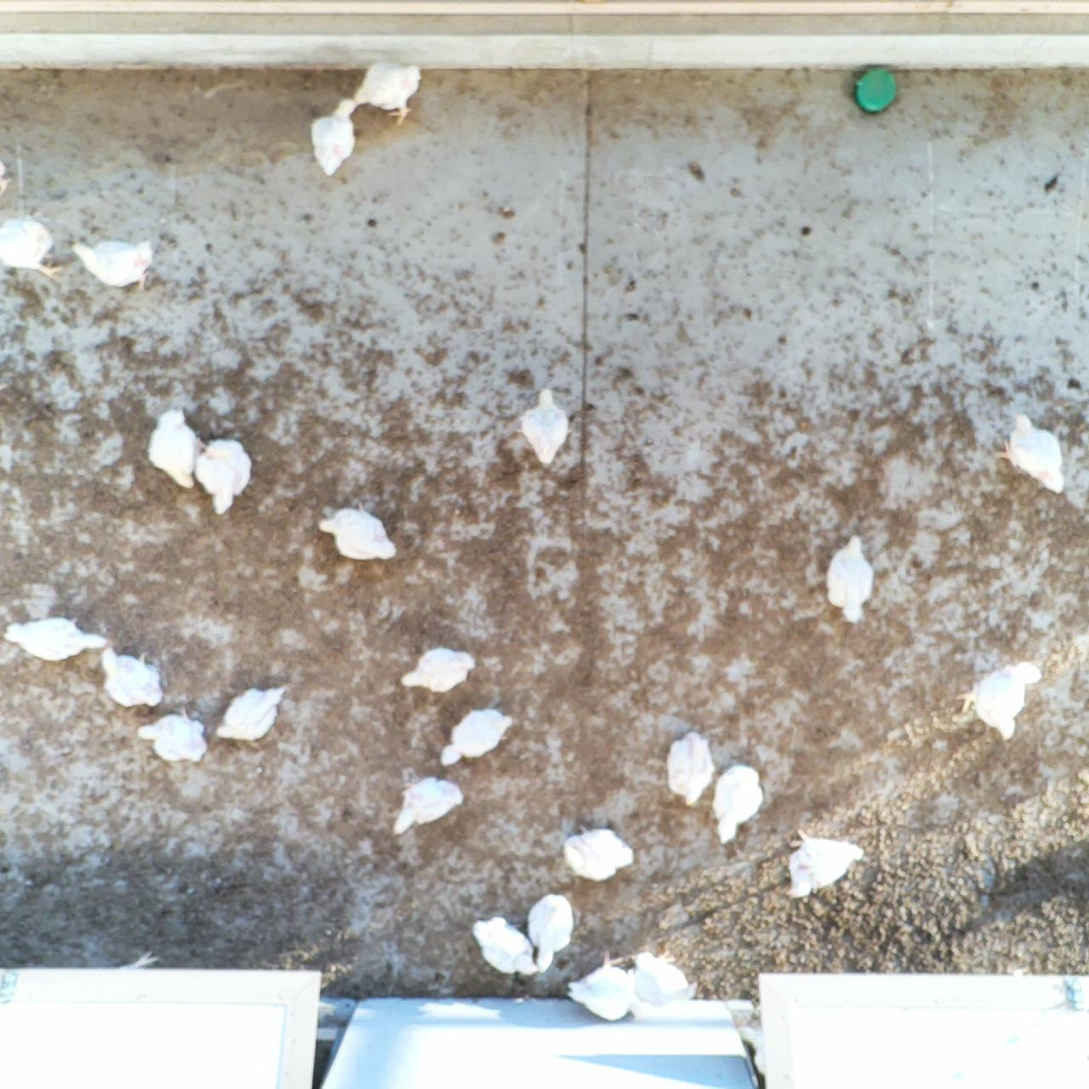chicken: (959, 655, 1046, 743), (781, 823, 864, 900), (995, 410, 1067, 496), (2, 613, 112, 665), (568, 949, 643, 1021), (143, 406, 209, 487), (318, 500, 399, 563), (194, 435, 256, 516), (436, 706, 517, 768), (70, 235, 156, 293), (824, 532, 877, 625), (348, 61, 422, 126), (560, 820, 636, 882), (0, 214, 66, 285), (390, 774, 466, 835), (709, 763, 764, 846), (517, 384, 572, 466), (211, 683, 287, 741), (524, 890, 578, 971), (100, 645, 166, 711), (310, 96, 362, 178), (628, 946, 695, 1008), (398, 643, 479, 694), (472, 915, 539, 976), (666, 731, 718, 807), (136, 712, 209, 765)
